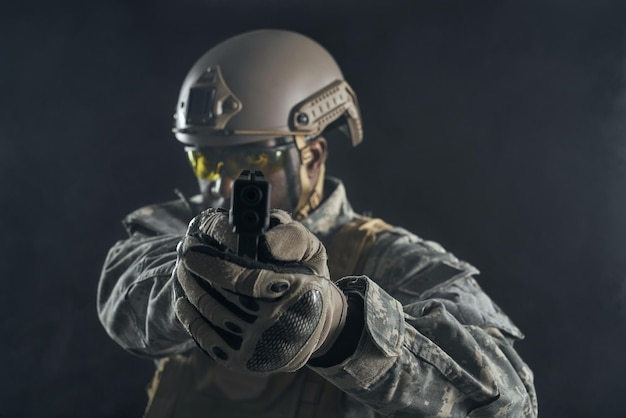gun: (231, 171, 272, 268)
